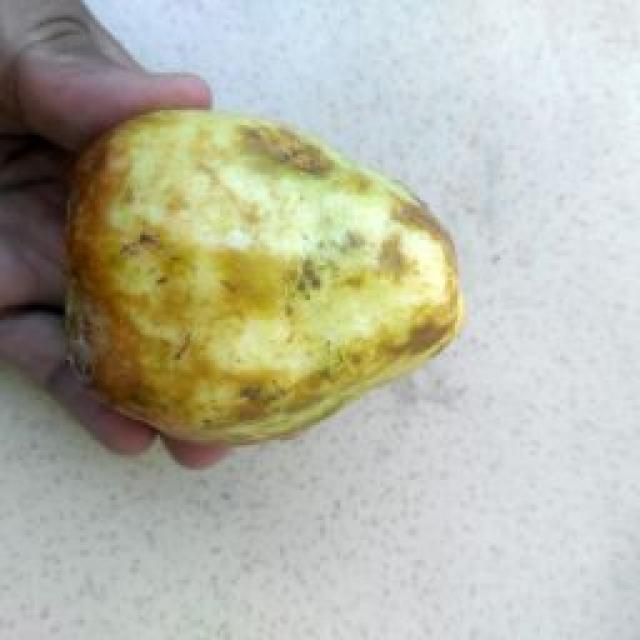Bad_Guava: (70, 111, 462, 443)
